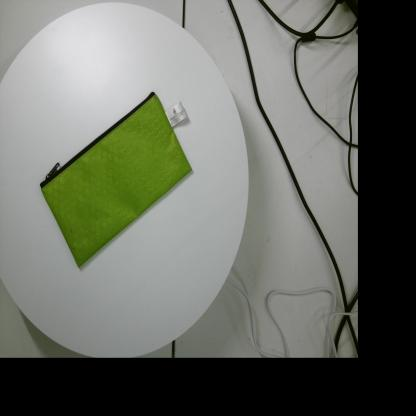Stationery: (40, 92, 192, 268)
